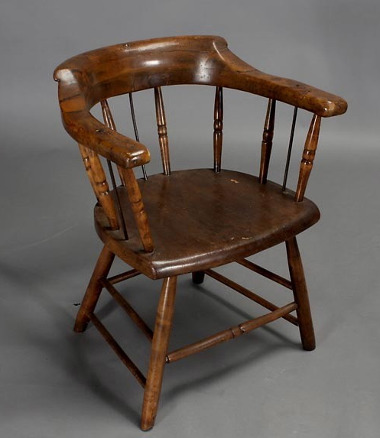chairs: (52, 34, 353, 432)
